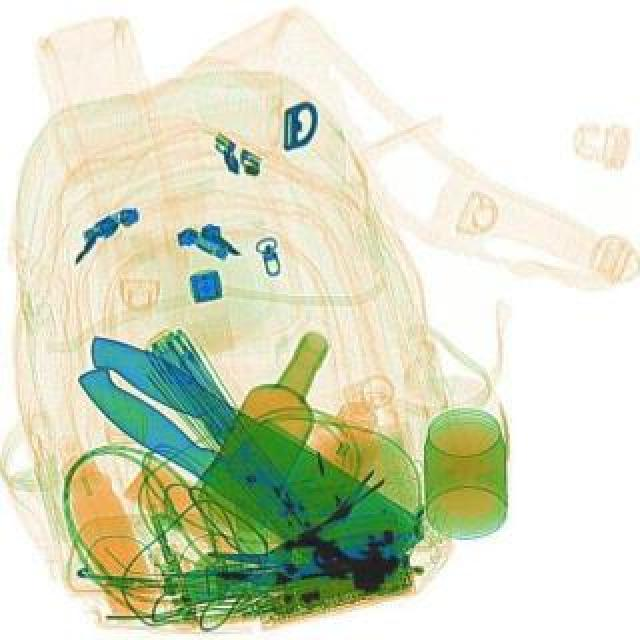knife: (44, 318, 432, 604), (64, 318, 434, 596)
